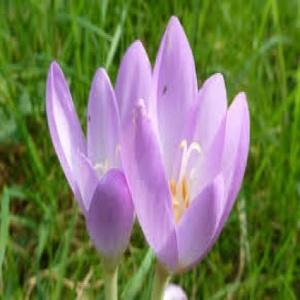Saffron: (121, 15, 253, 278), (47, 41, 155, 275)
